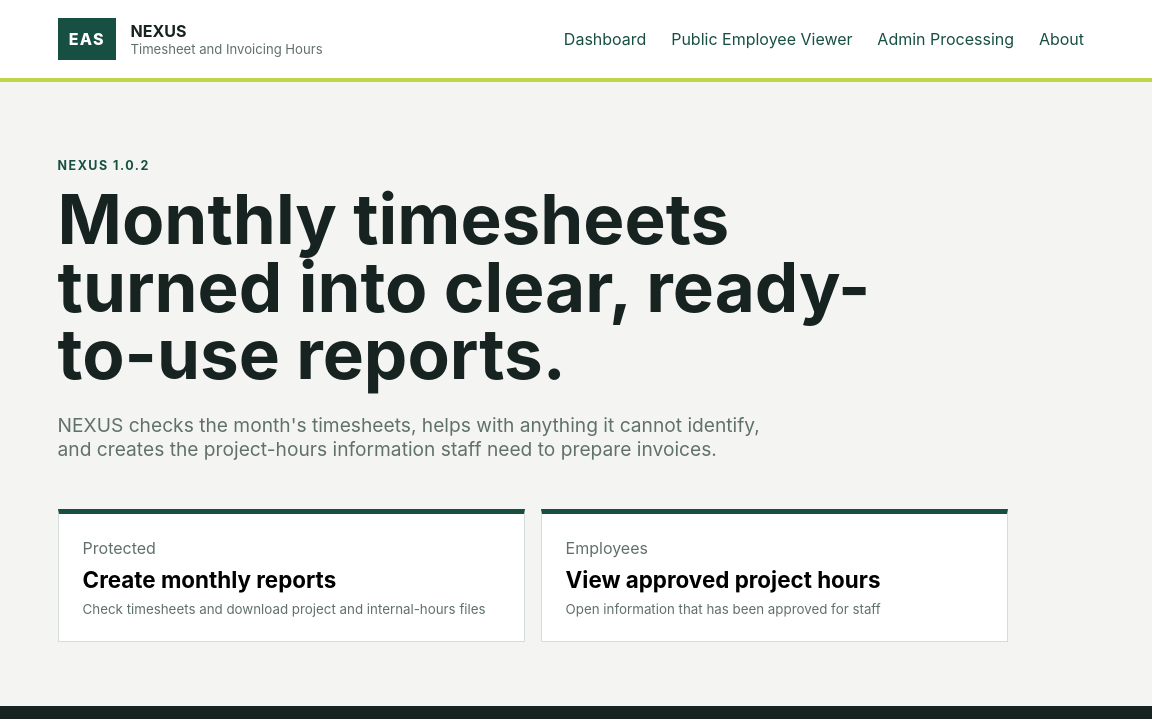
Scenario: shows the demonstration public viewer without internal categories
Click the button "Public Employee Viewer" at x=762, y=39, box [661,19,863,59]
(page scrolled)
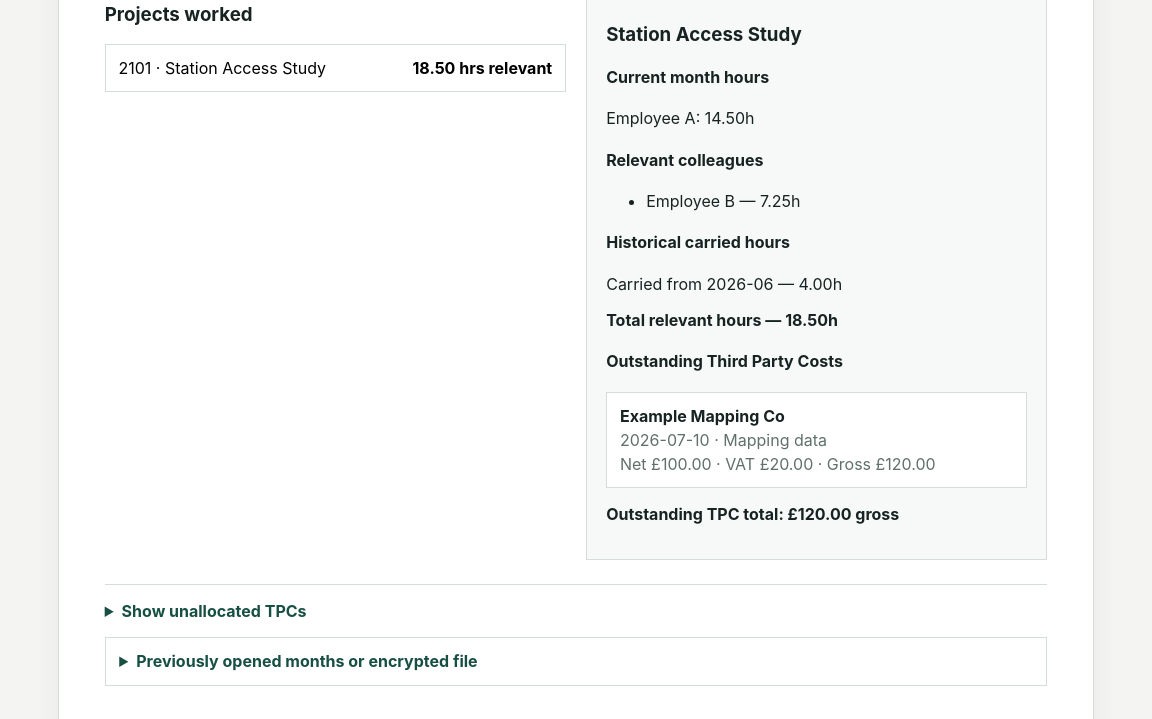
Expected: the heading "Historical carried hours" is shown, [606,232,790,252]
Expected: the heading "Outstanding Third Party Costs" is shown, [606,351,843,371]
